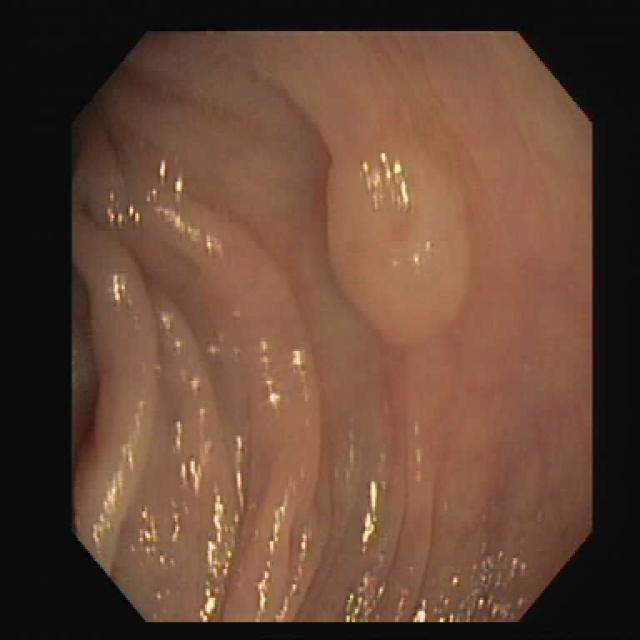tumor: (328, 142, 470, 344)
